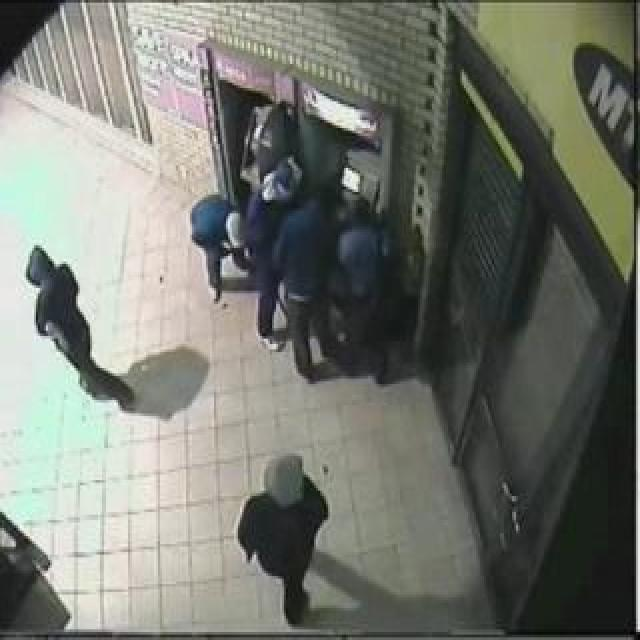thief: (190, 153, 396, 301), (224, 414, 325, 522), (21, 233, 67, 277)
